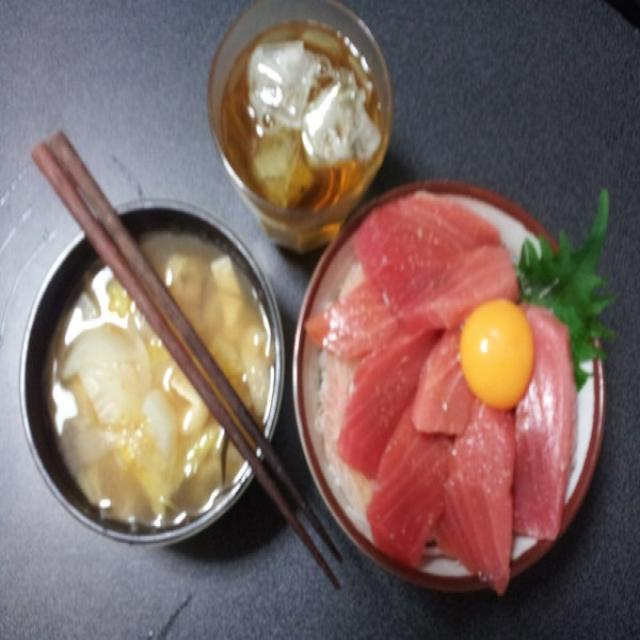刺身生食: (285, 162, 605, 586)
汤锅炖物: (14, 199, 285, 542)
